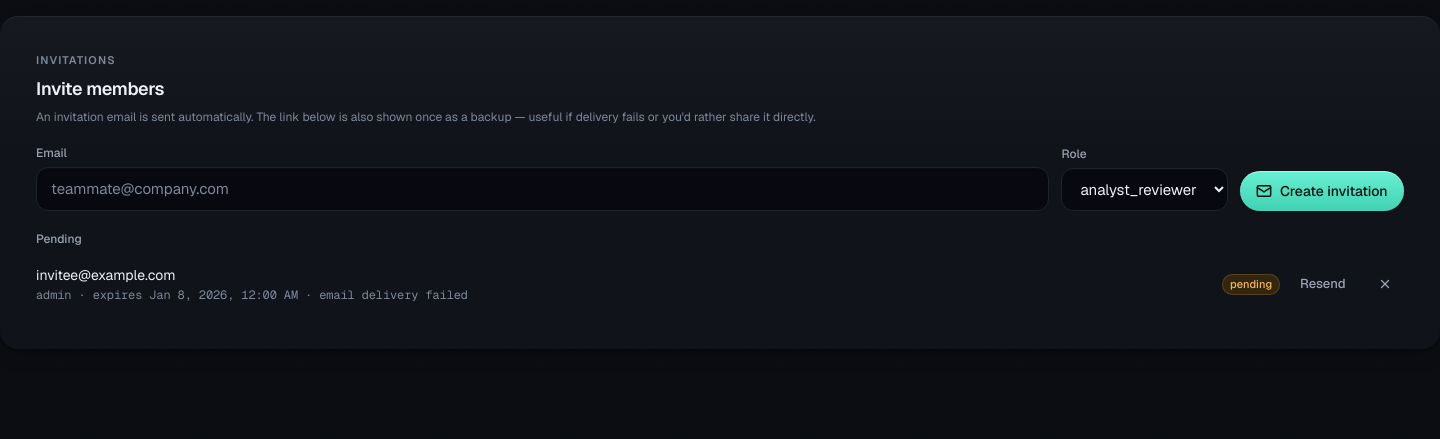
Test: InvitationsPanel › resends a failed invitation and shows the new one-time link
The width and height of the screenshot is (1440, 439).
Click the button "Resend" at (1323,284), box [1288,268,1358,300]
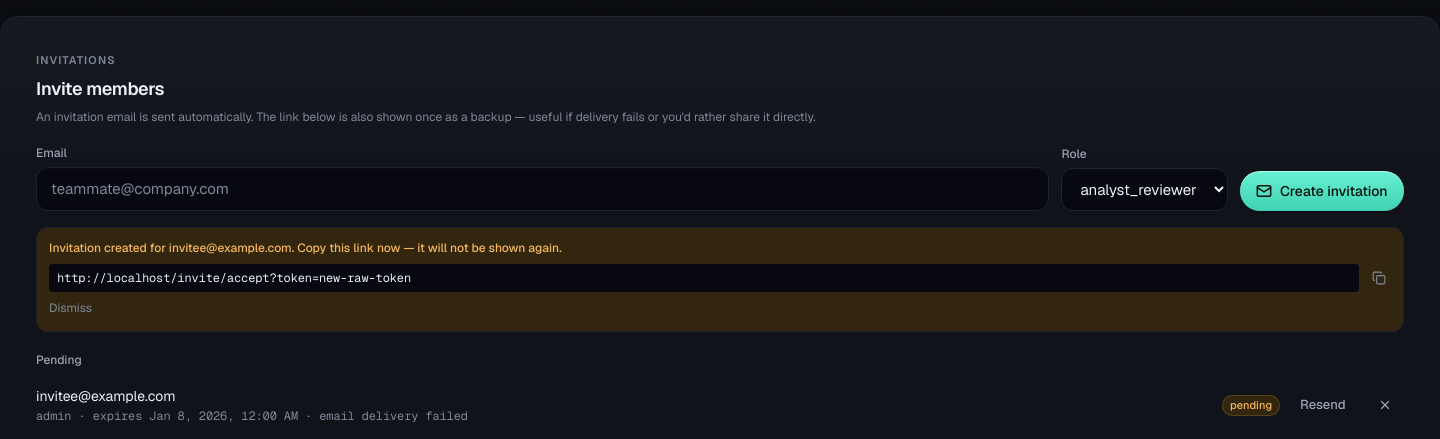
Expected: the text "http://localhost/invite/accept?token=new-raw-token" is shown, [49,264,1359,292]
